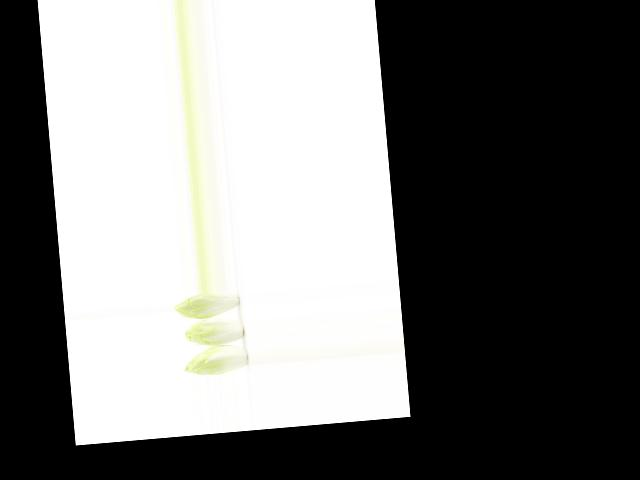lettuce: (181, 343, 251, 377)
